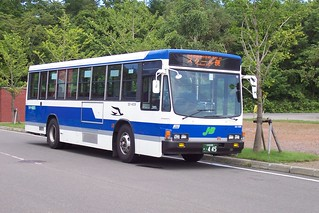bus: (24, 49, 244, 164)
